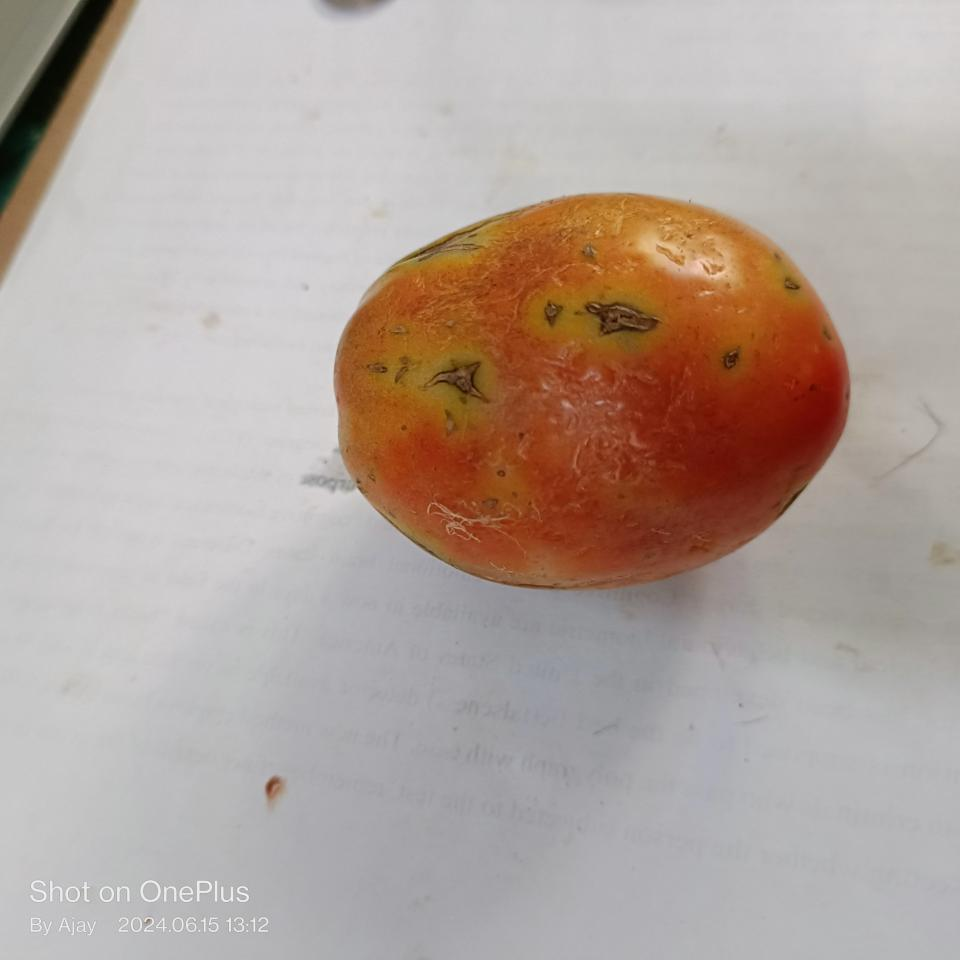Bacterial_Spot: (542, 288, 658, 336), (432, 350, 489, 400), (779, 267, 810, 298), (721, 342, 748, 373)
